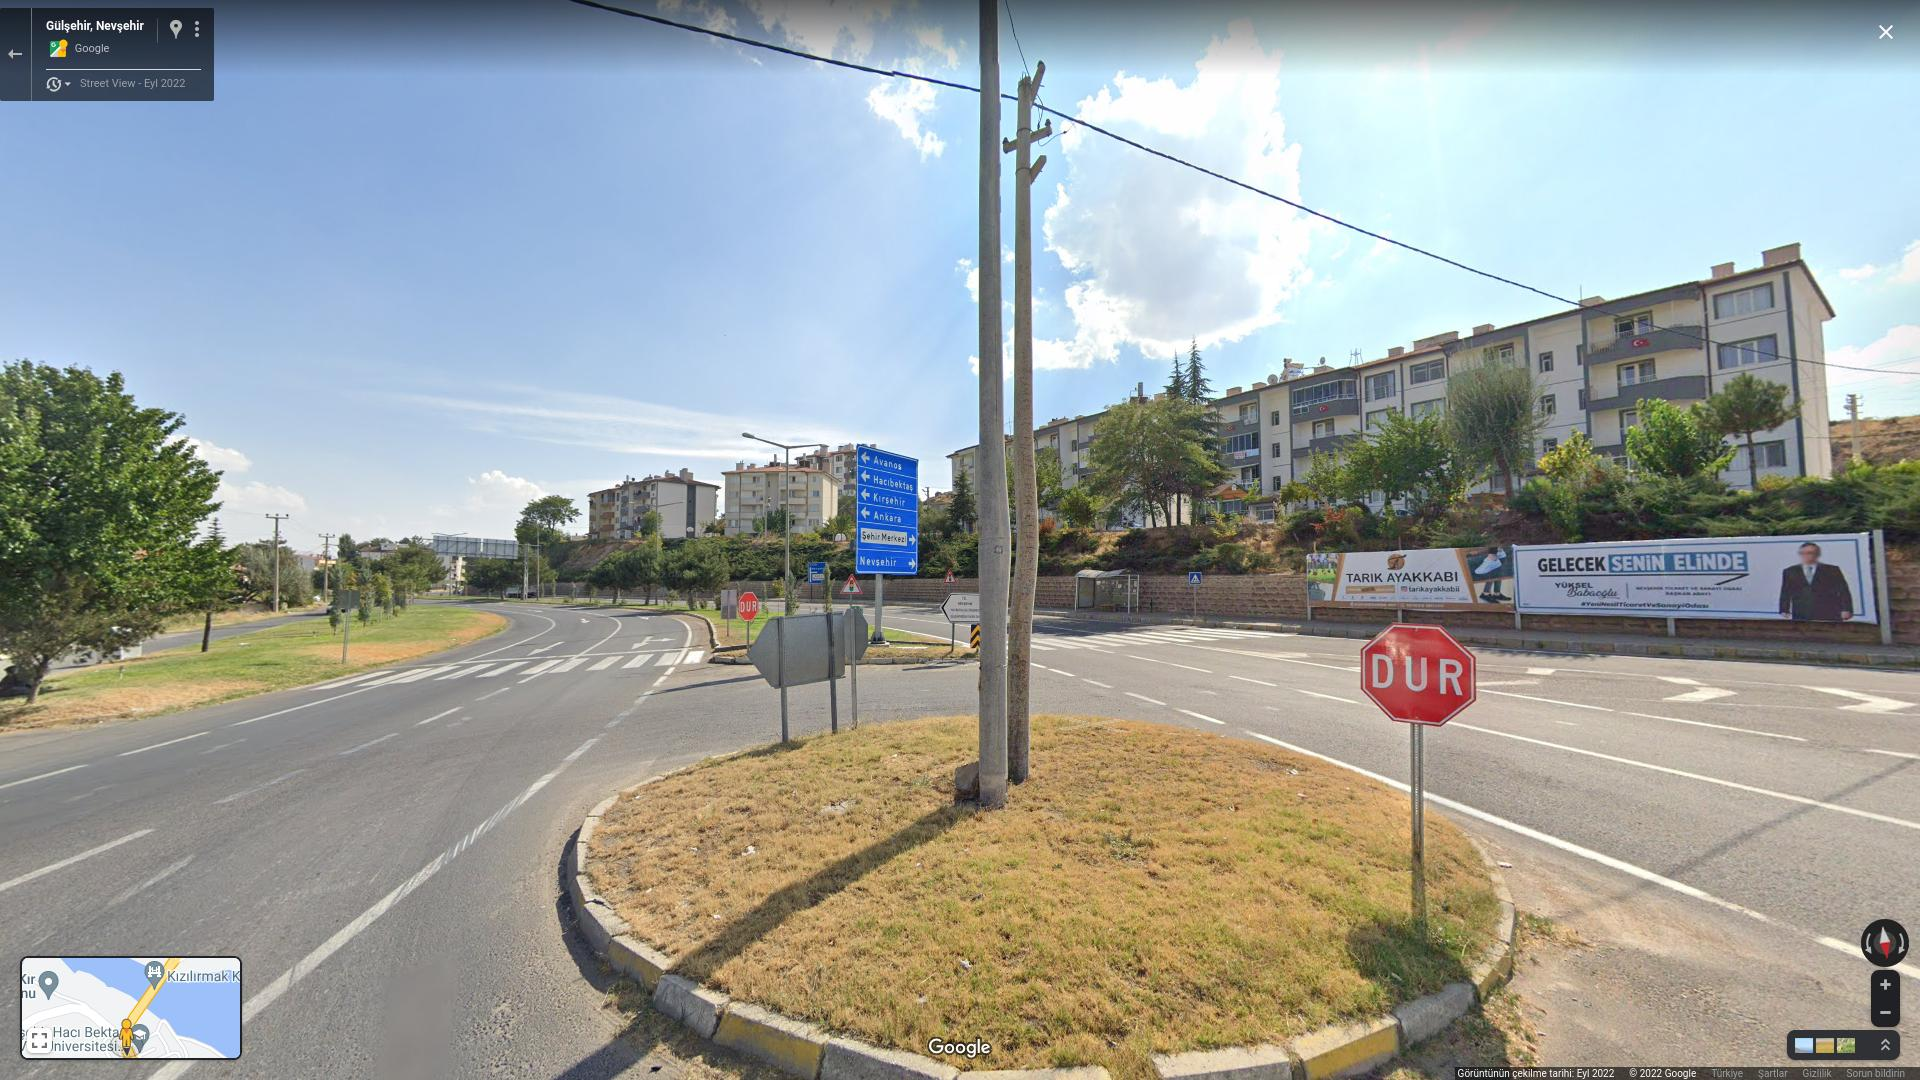stop: (1365, 624, 1482, 728)
